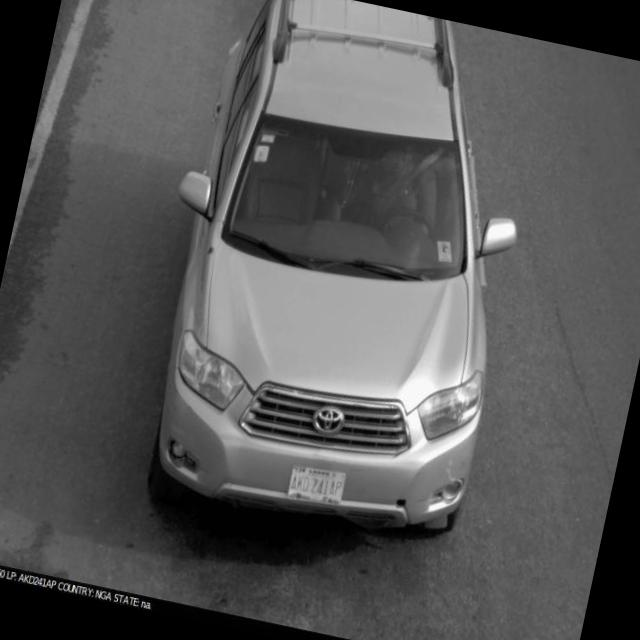person_with_seatbelt: (350, 122, 472, 255)
